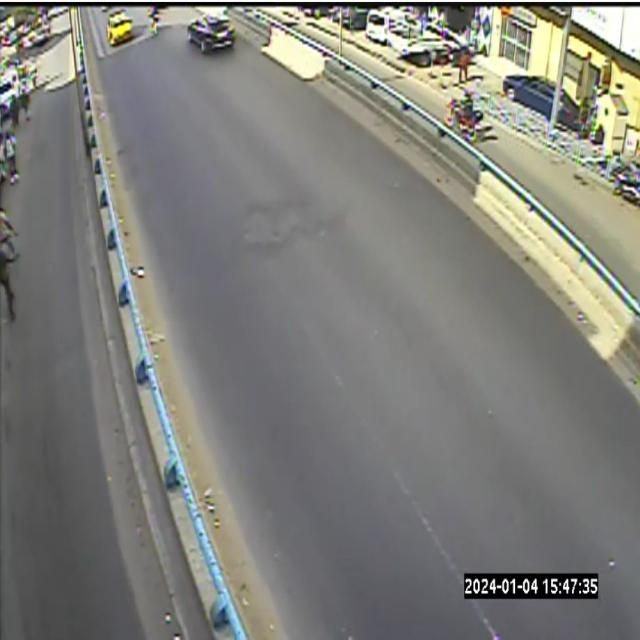car: (186, 7, 236, 52), (106, 8, 133, 45)
